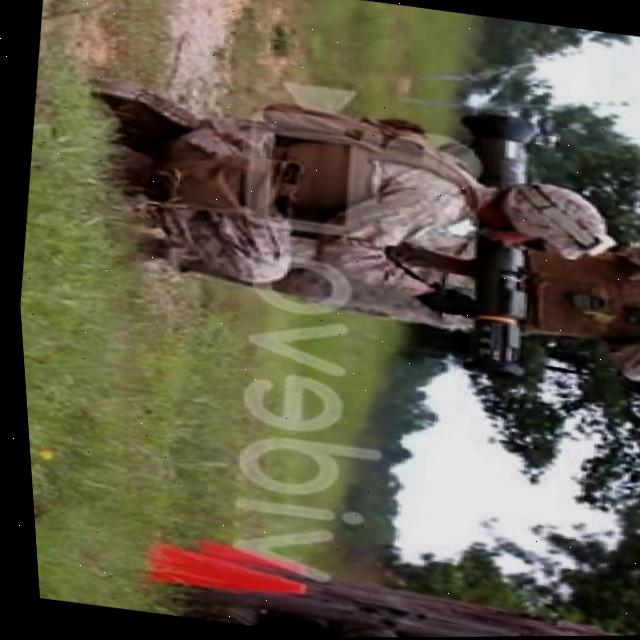rocket: (419, 113, 554, 382)
